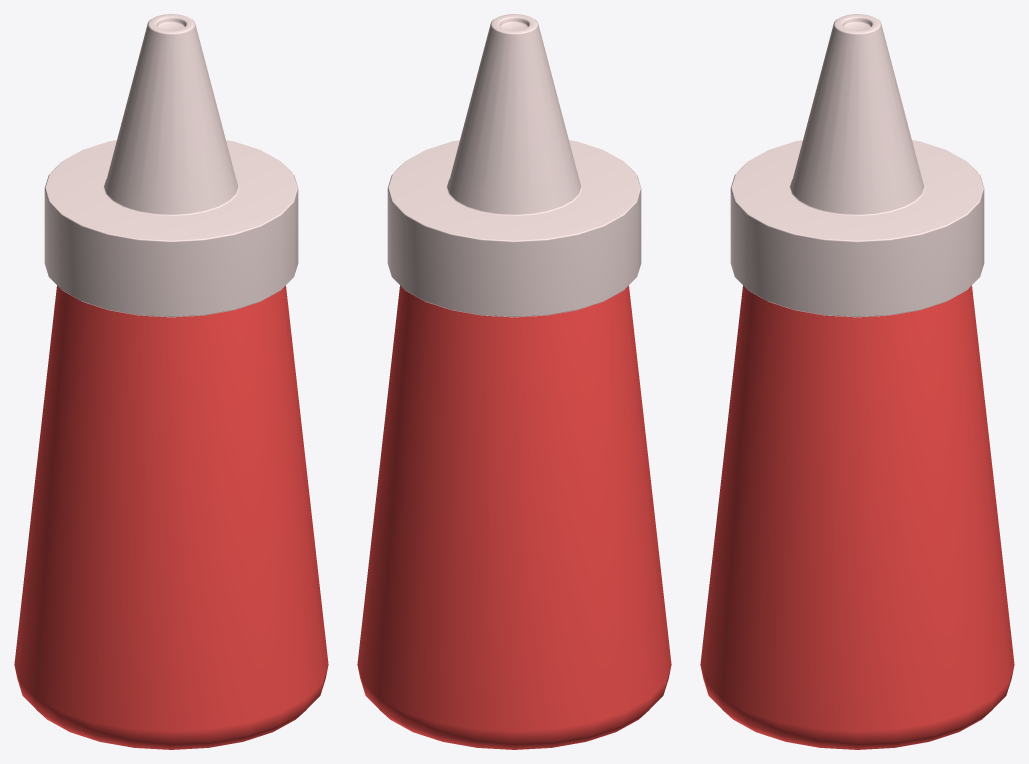
File: Store_12_Ketchup_1.glb
3 renders of one model, left to right at view 1: azimuth 30°, elevation 25°; view 2: azimuth 150°, elevation 25°; view 3: azimuth 270°, elevation 25°, orthographic.
Visible parts, largest first — view 1: Store_12_Ketchup_1; view 2: Store_12_Ketchup_1; view 3: Store_12_Ketchup_1.
Part boxes in pixels (bbox=[...]): Store_12_Ketchup_1: bbox=[14, 14, 328, 749]; Store_12_Ketchup_1: bbox=[357, 14, 671, 749]; Store_12_Ketchup_1: bbox=[700, 14, 1014, 749].
Size of the model in its own units: 0.2221 by 0.5226 by 0.2221.
Materials: 1 (1 with a texture image).
